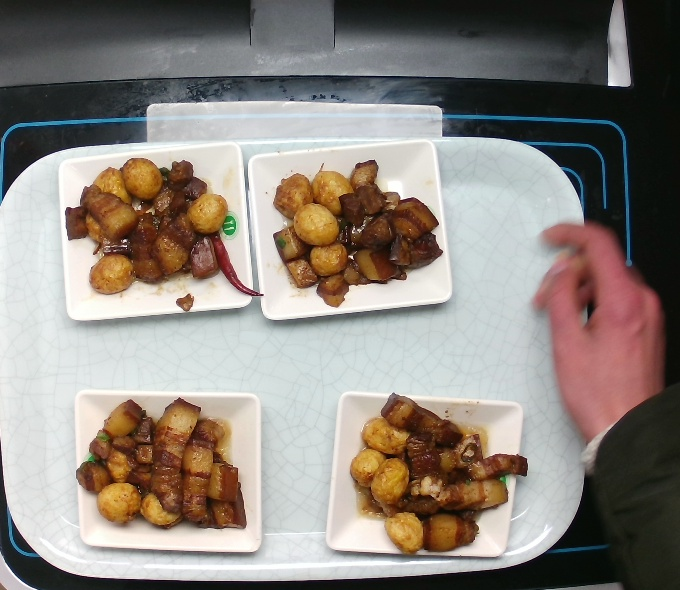wcq-HongShaoRouChaoAnChunDan: (54, 151, 269, 316), (349, 379, 530, 553), (65, 386, 250, 541), (271, 147, 451, 306)
